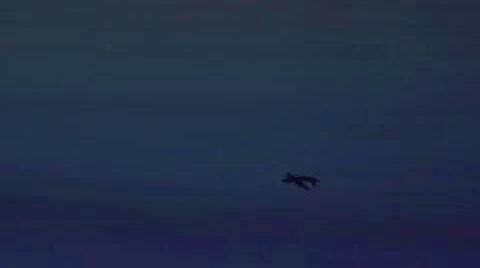Plane: (264, 163, 335, 199)
